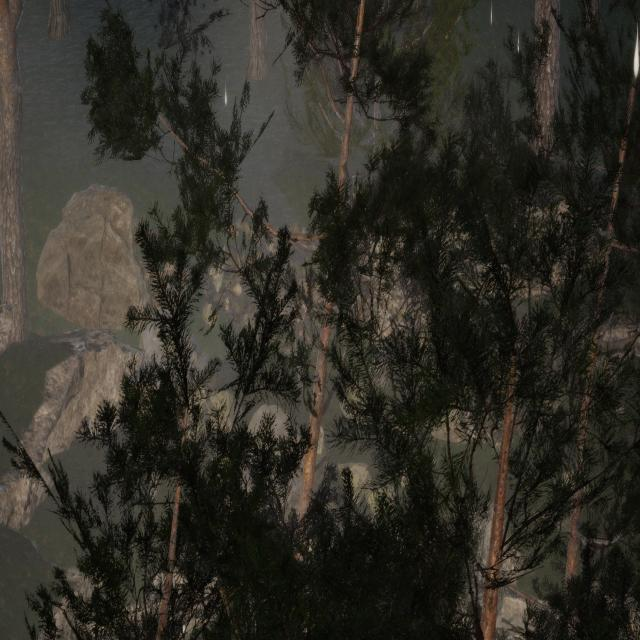Human: (211, 276, 246, 360)
